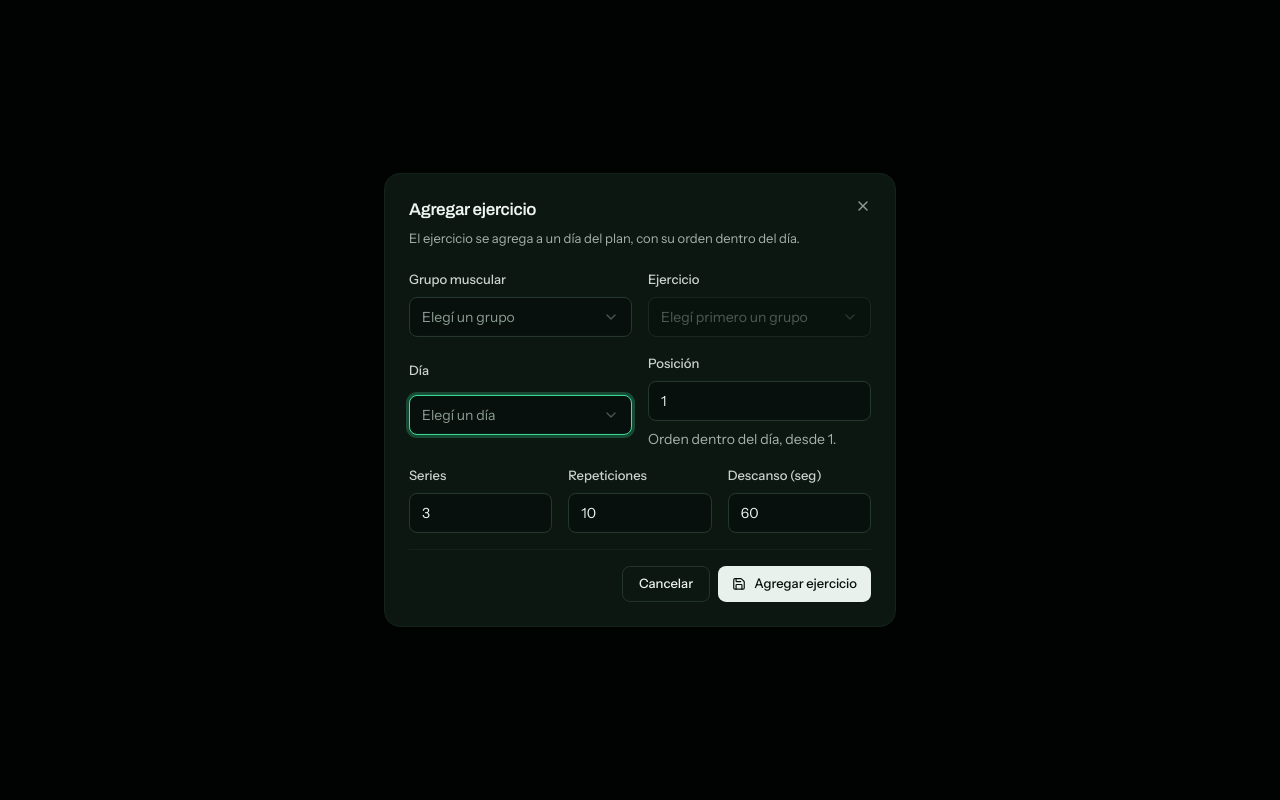
Test: RoutineExerciseFormDialog › filtra los ejercicios por grupo muscular y resetea al cambiarlo
Click the dropdown named "Grupo muscular" at [520, 317], box [409,297,632,337]
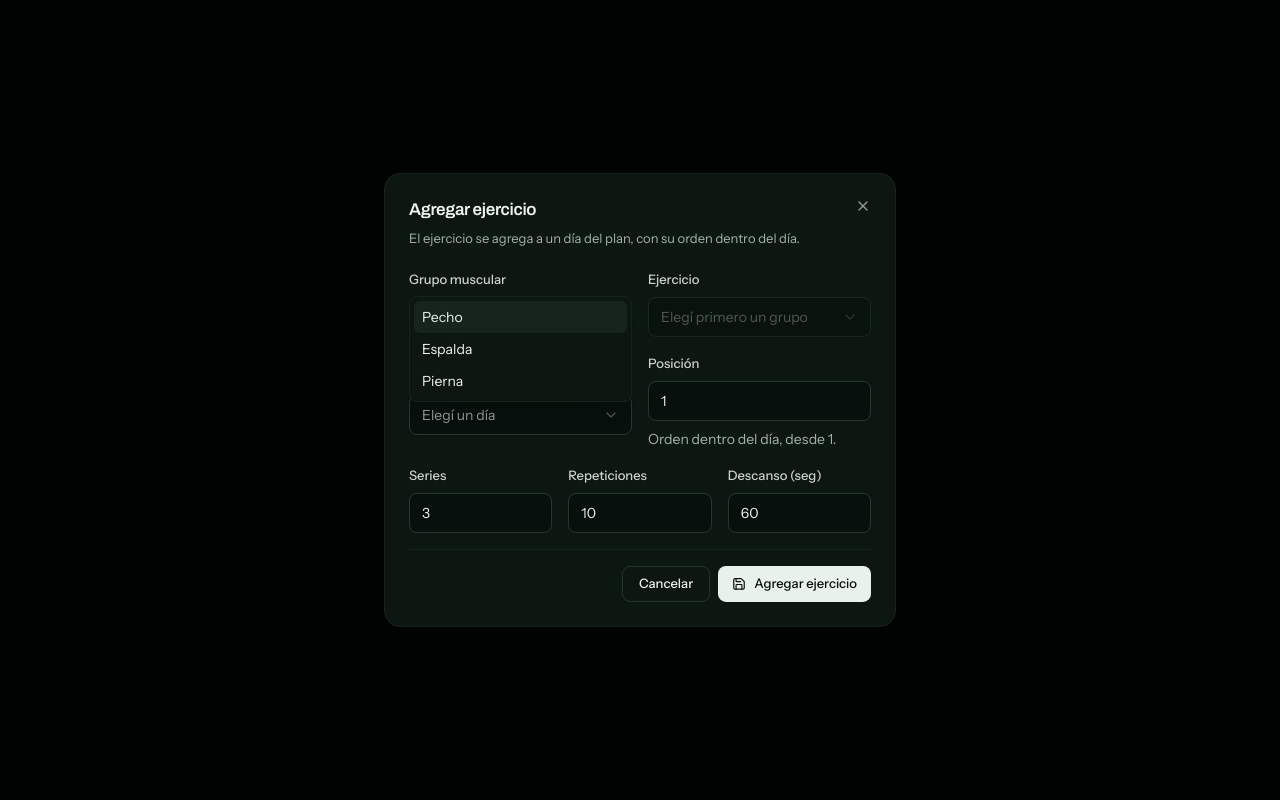
Click the option "Pecho" at [520, 317], box [414,301,627,333]
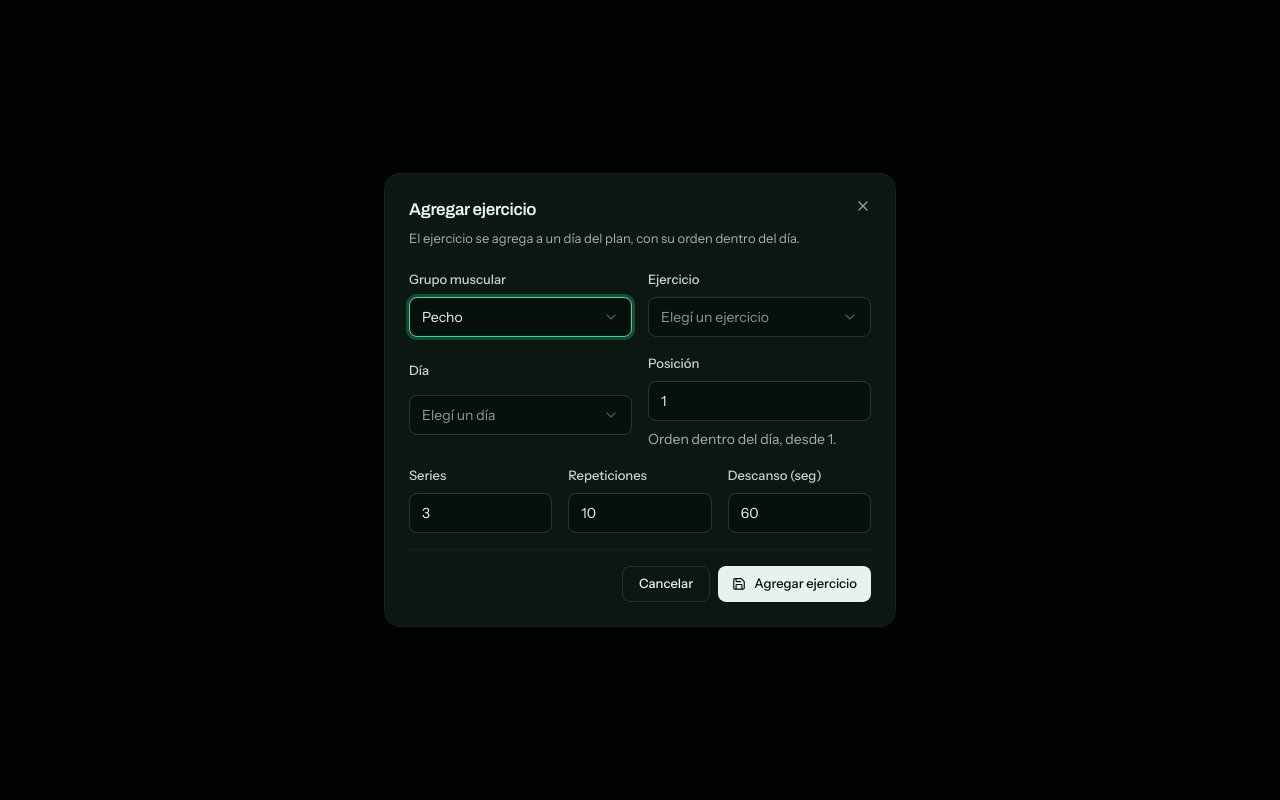
Check: the dropdown labelled "ejercicio" is enabled
Click the dropdown labelled "ejercicio" at [760, 317], box [648,297,871,337]
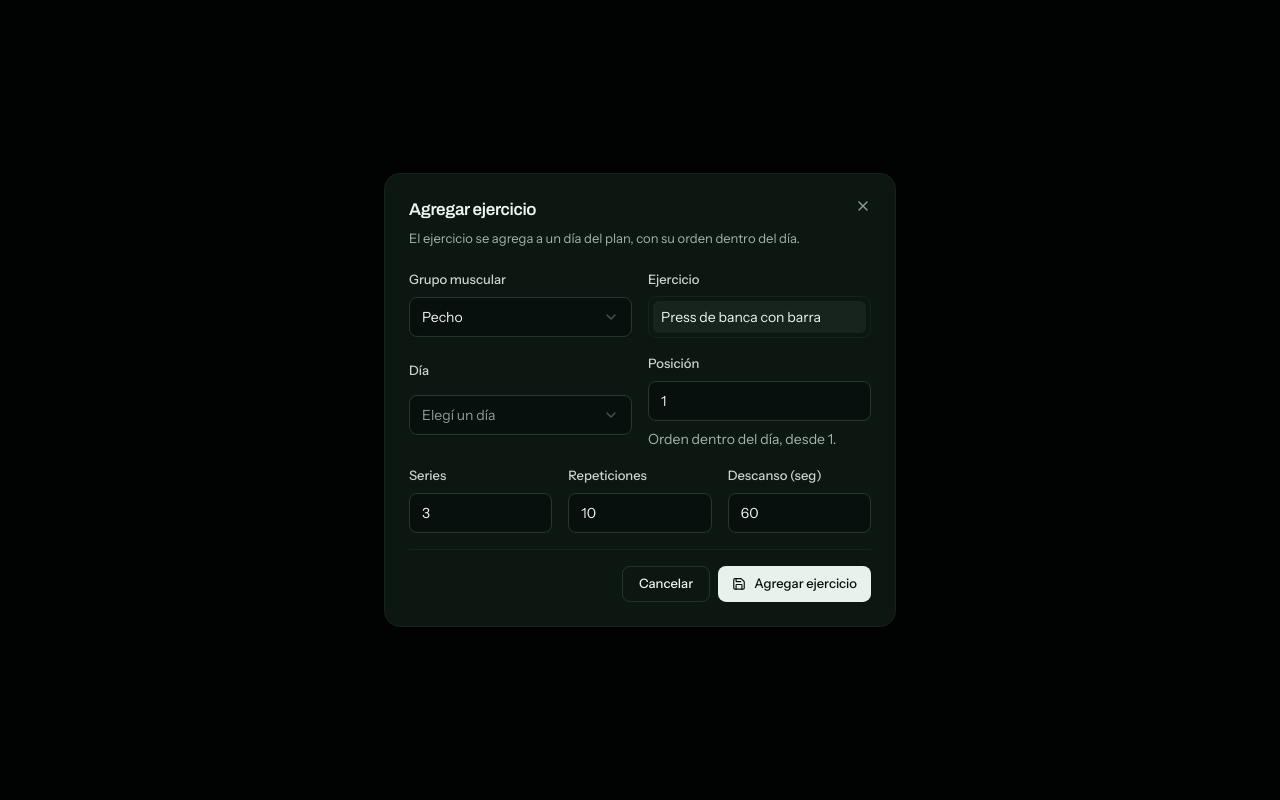
Check: the option "Press de banca con barra" is shown
Click the option "Press de banca con barra" at [760, 317], box [653,301,866,333]
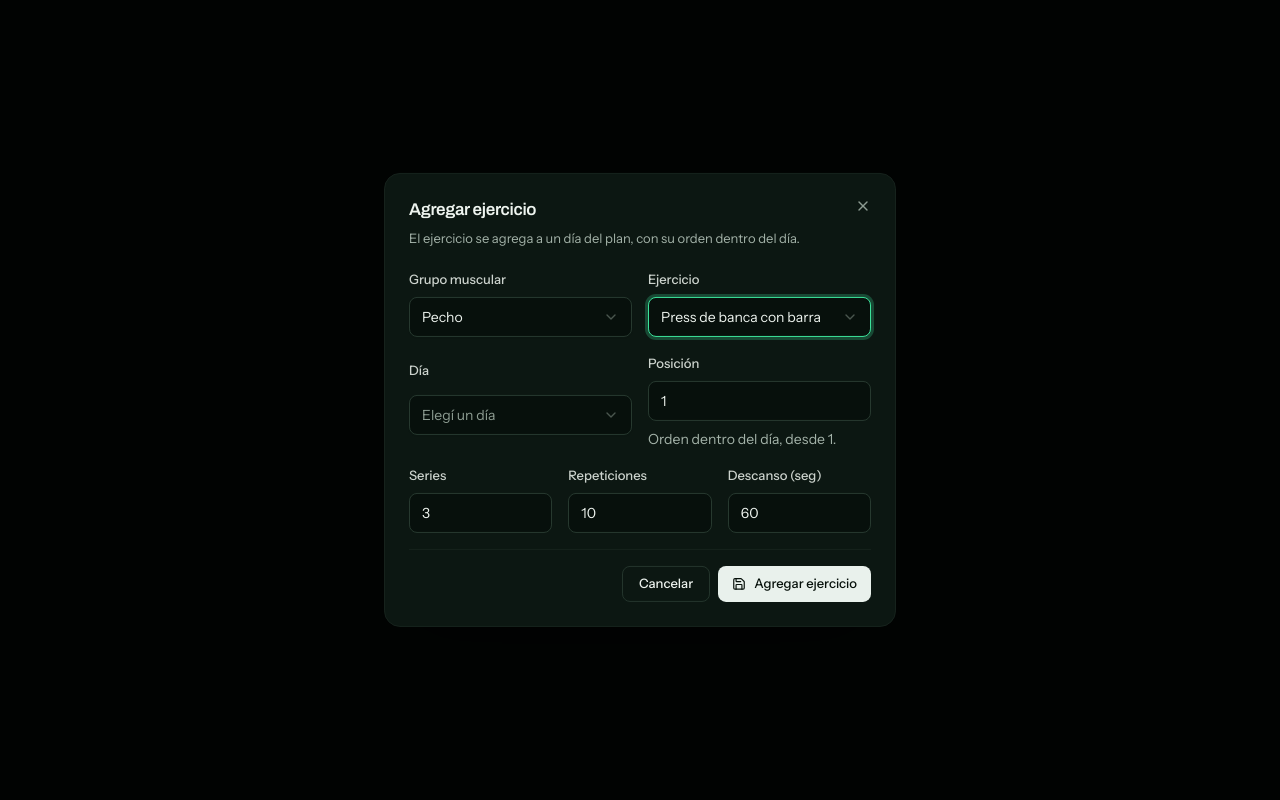
Check: the dropdown named "Ejercicio" reads "Press de banca con barra", box [648,297,871,337]
Cambiar de grupo descarta la selección anterior.
Click the dropdown named "Grupo muscular" at [520, 317], box [409,297,632,337]
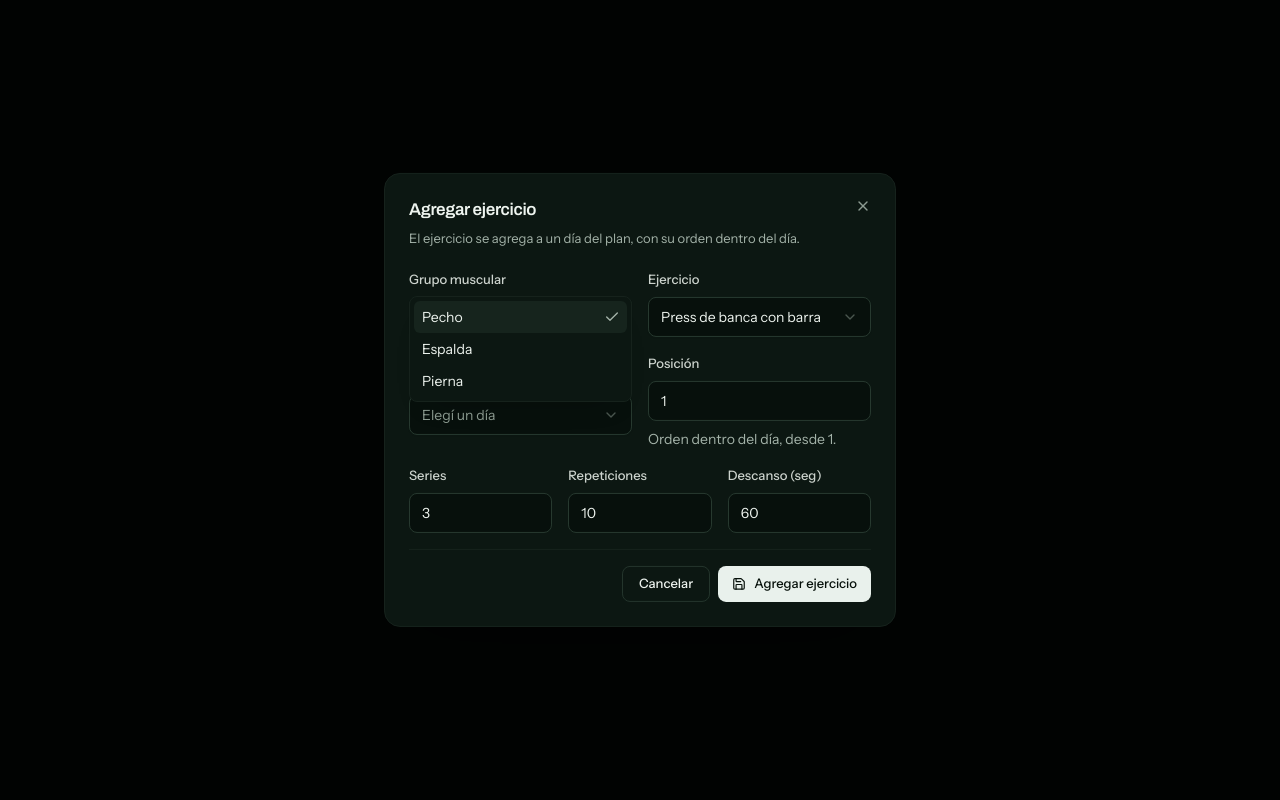
Click the option "Espalda" at [447, 349], box [422,340,472,358]
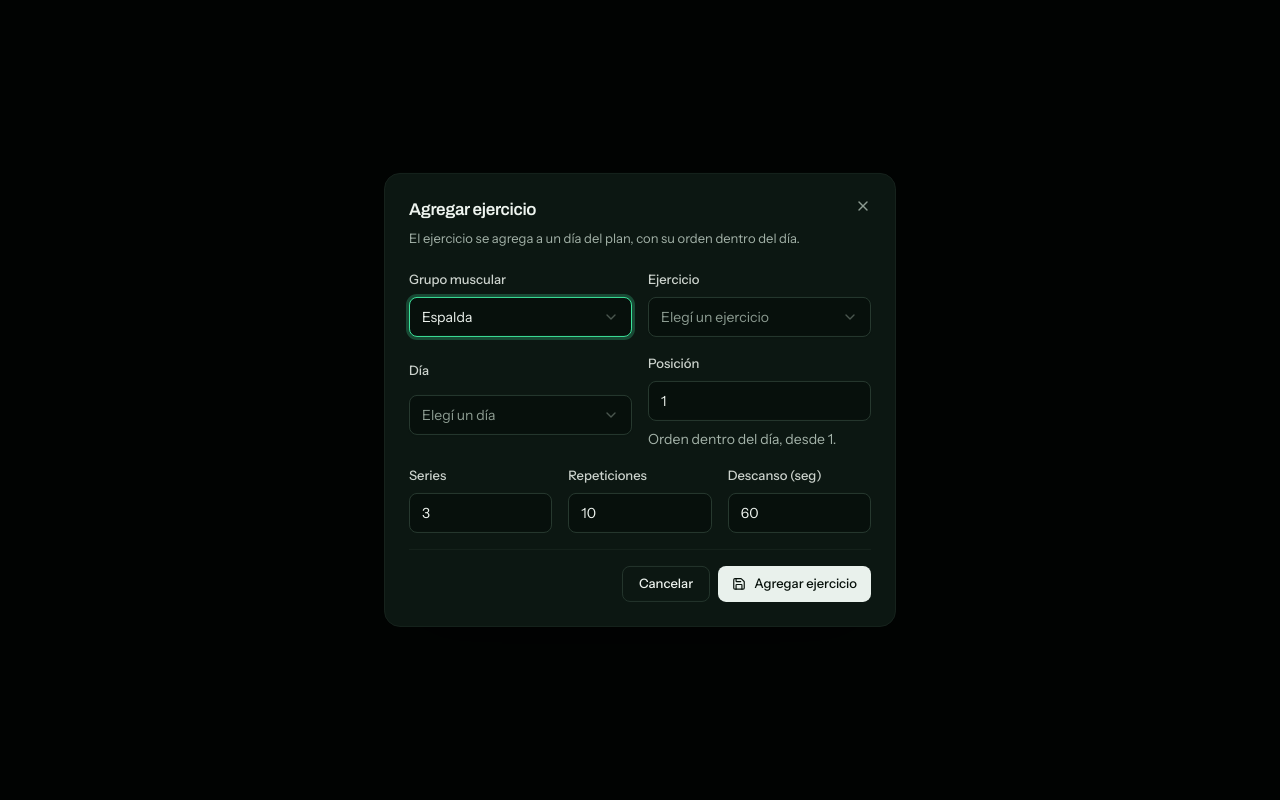
Check: the dropdown labelled "ejercicio" reads "Elegí un ejercicio", box [648,297,871,337]
